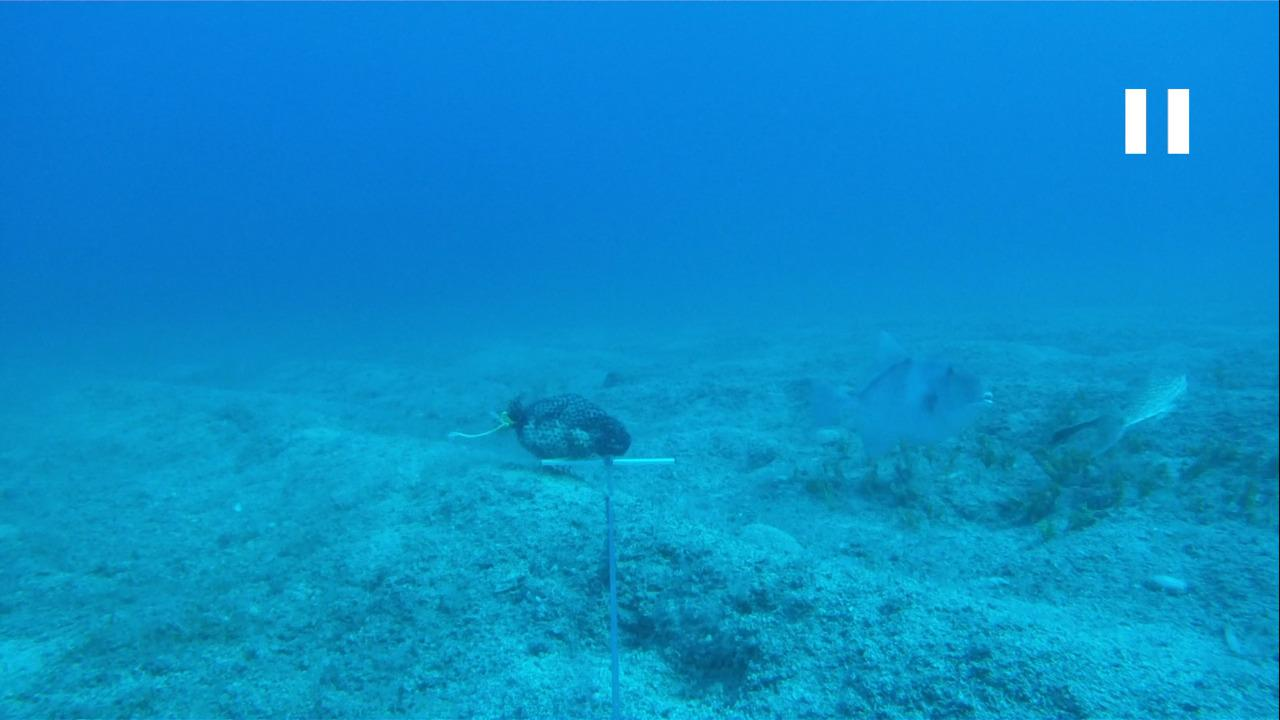balistes: (782, 324, 999, 466)
dactylopterus: (1040, 364, 1193, 466)
